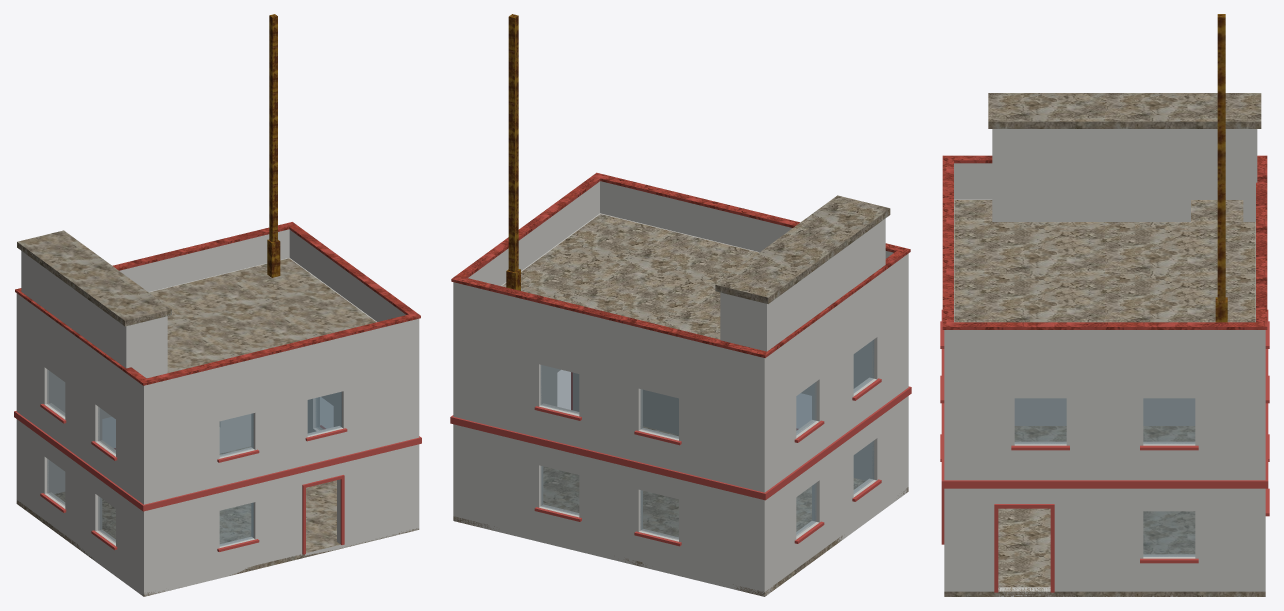
The model's file is coastguard-station.loc-v1.lod1.glb.
3 renders of one model, left to right at view 1: azimuth 30°, elevation 25°; view 2: azimuth 150°, elevation 25°; view 3: azimuth 270°, elevation 25°, orthographic. The views are drawn at different scales.
Parts seen in each view (by area): view 1: coastguard-station; view 2: coastguard-station; view 3: coastguard-station.
Boxes of the visible parts, <box> form: coastguard-station: <box>14,14,421,596</box>; coastguard-station: <box>450,14,911,596</box>; coastguard-station: <box>940,14,1269,596</box>.
Bounding box in the file's own units: 10.2 × 15.35 × 8.2.
Materials: 4 (2 with a texture image).
